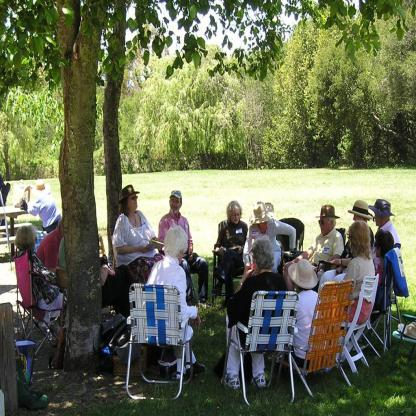face: (171, 197, 181, 214), (320, 218, 330, 235), (129, 195, 138, 211), (232, 210, 241, 225), (259, 220, 268, 233), (354, 214, 361, 228), (375, 213, 382, 226), (376, 242, 381, 257)
